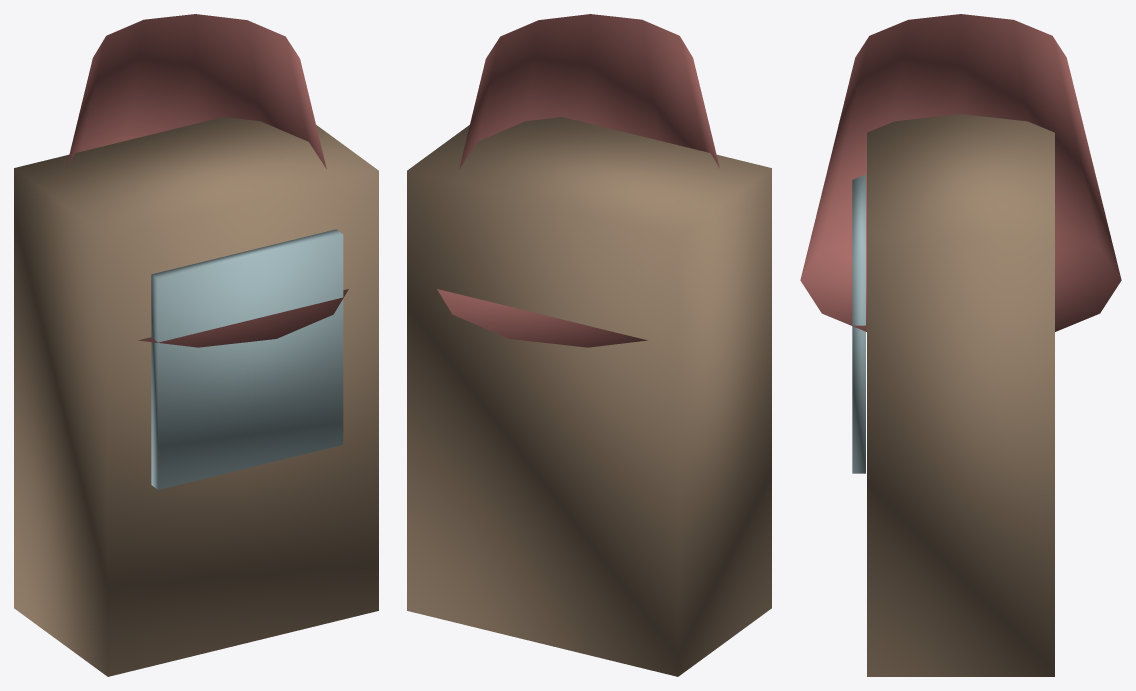
Rendered from jukebox__compact.glb.
3 views of the same model, side by side, from view 1: azimuth 30°, elevation 25°; view 2: azimuth 150°, elevation 25°; view 3: azimuth 270°, elevation 25° (orthographic).
Parts seen in each view (by area): view 1: world; view 2: world; view 3: world.
Part boxes in pixels (x1,y1,x2,y2): world: (14,14,378,676); world: (407,14,771,676); world: (800,14,1121,676).
Bounding box in the file's own units: 0.6888 × 1.34 × 0.7052.
